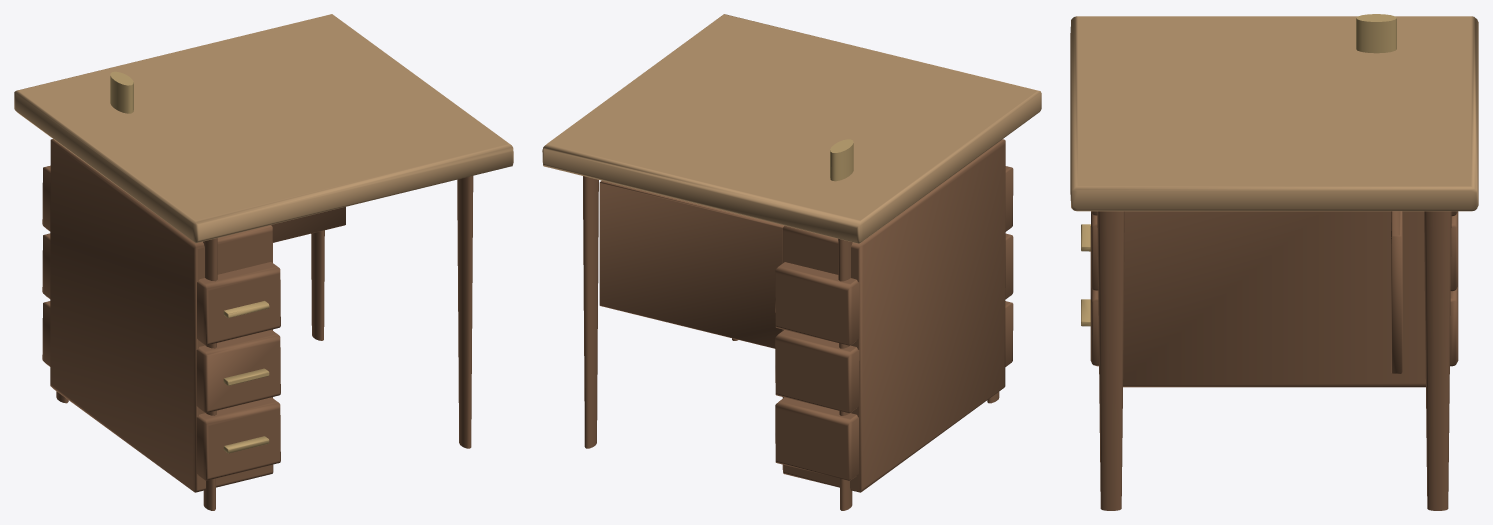
File: desk-5-4.lod.glb
The picture shows the model from 3 angles, left to right: view 1: azimuth 30°, elevation 25°; view 2: azimuth 150°, elevation 25°; view 3: azimuth 270°, elevation 25°; orthographic projection. The views are drawn at different scales.
Visible parts, largest first — view 1: upholstery (×2), part; view 2: part, upholstery (×2); view 3: upholstery (×2), part.
Part boxes in pixels (x1,y1,x2,y2): upholstery (×2): [14, 14, 513, 453]; part: [42, 139, 473, 510]; part: [583, 139, 1013, 510]; upholstery (×2): [542, 14, 1041, 243]; upholstery (×2): [1070, 14, 1478, 326]; part: [1090, 211, 1458, 510].
Bounding box in the file's own units: 1 × 1 × 1.
